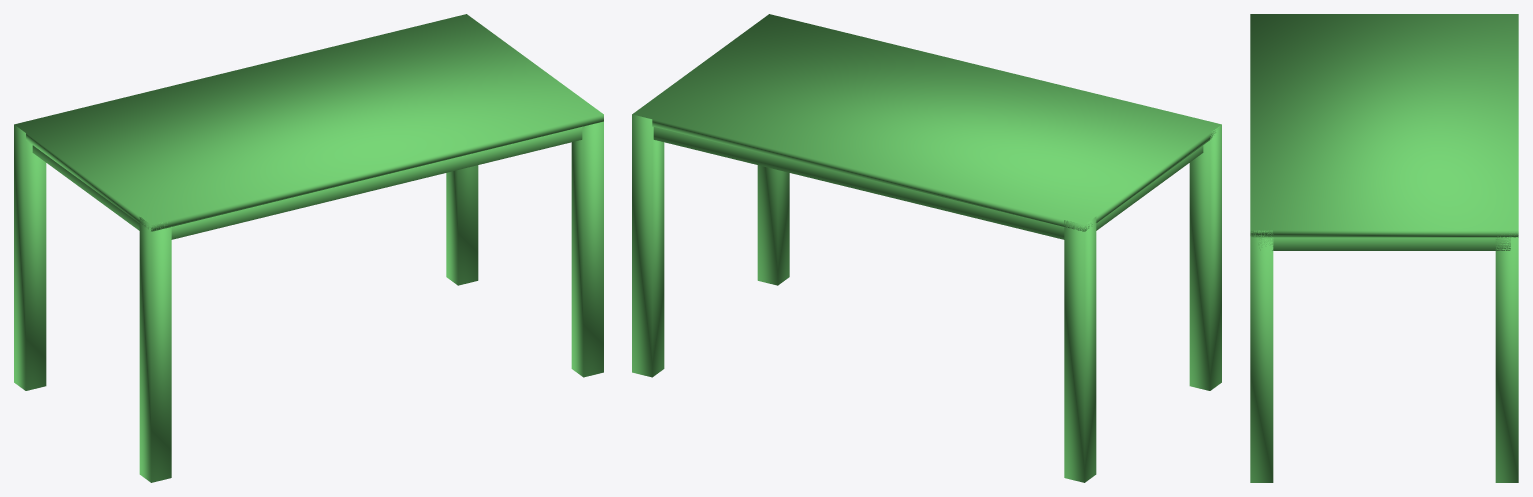
Rendered from SimpleTable.fbx.
3 renders of one model, left to right at view 1: azimuth 30°, elevation 25°; view 2: azimuth 150°, elevation 25°; view 3: azimuth 270°, elevation 25°, orthographic. The views are drawn at different scales.
Parts seen in each view (by area): view 1: Flat, Leg, Seal1, Seal2; view 2: Flat, Leg, Seal1, Seal2; view 3: Flat, Leg, Seal2.
Boxes of the visible parts, x1,y1,x2,y2 form: Flat: [14, 14, 603, 231]; Leg: [14, 121, 603, 482]; Seal1: [171, 127, 582, 239]; Seal2: [32, 145, 139, 230]; Flat: [632, 14, 1221, 231]; Leg: [632, 114, 1221, 482]; Seal1: [653, 127, 1064, 239]; Seal2: [1096, 145, 1203, 230]; Flat: [1250, 14, 1518, 237]; Leg: [1250, 230, 1518, 482]; Seal2: [1258, 237, 1510, 250].
Size of the model in its own units: 2 by 1.09 by 1.05.
